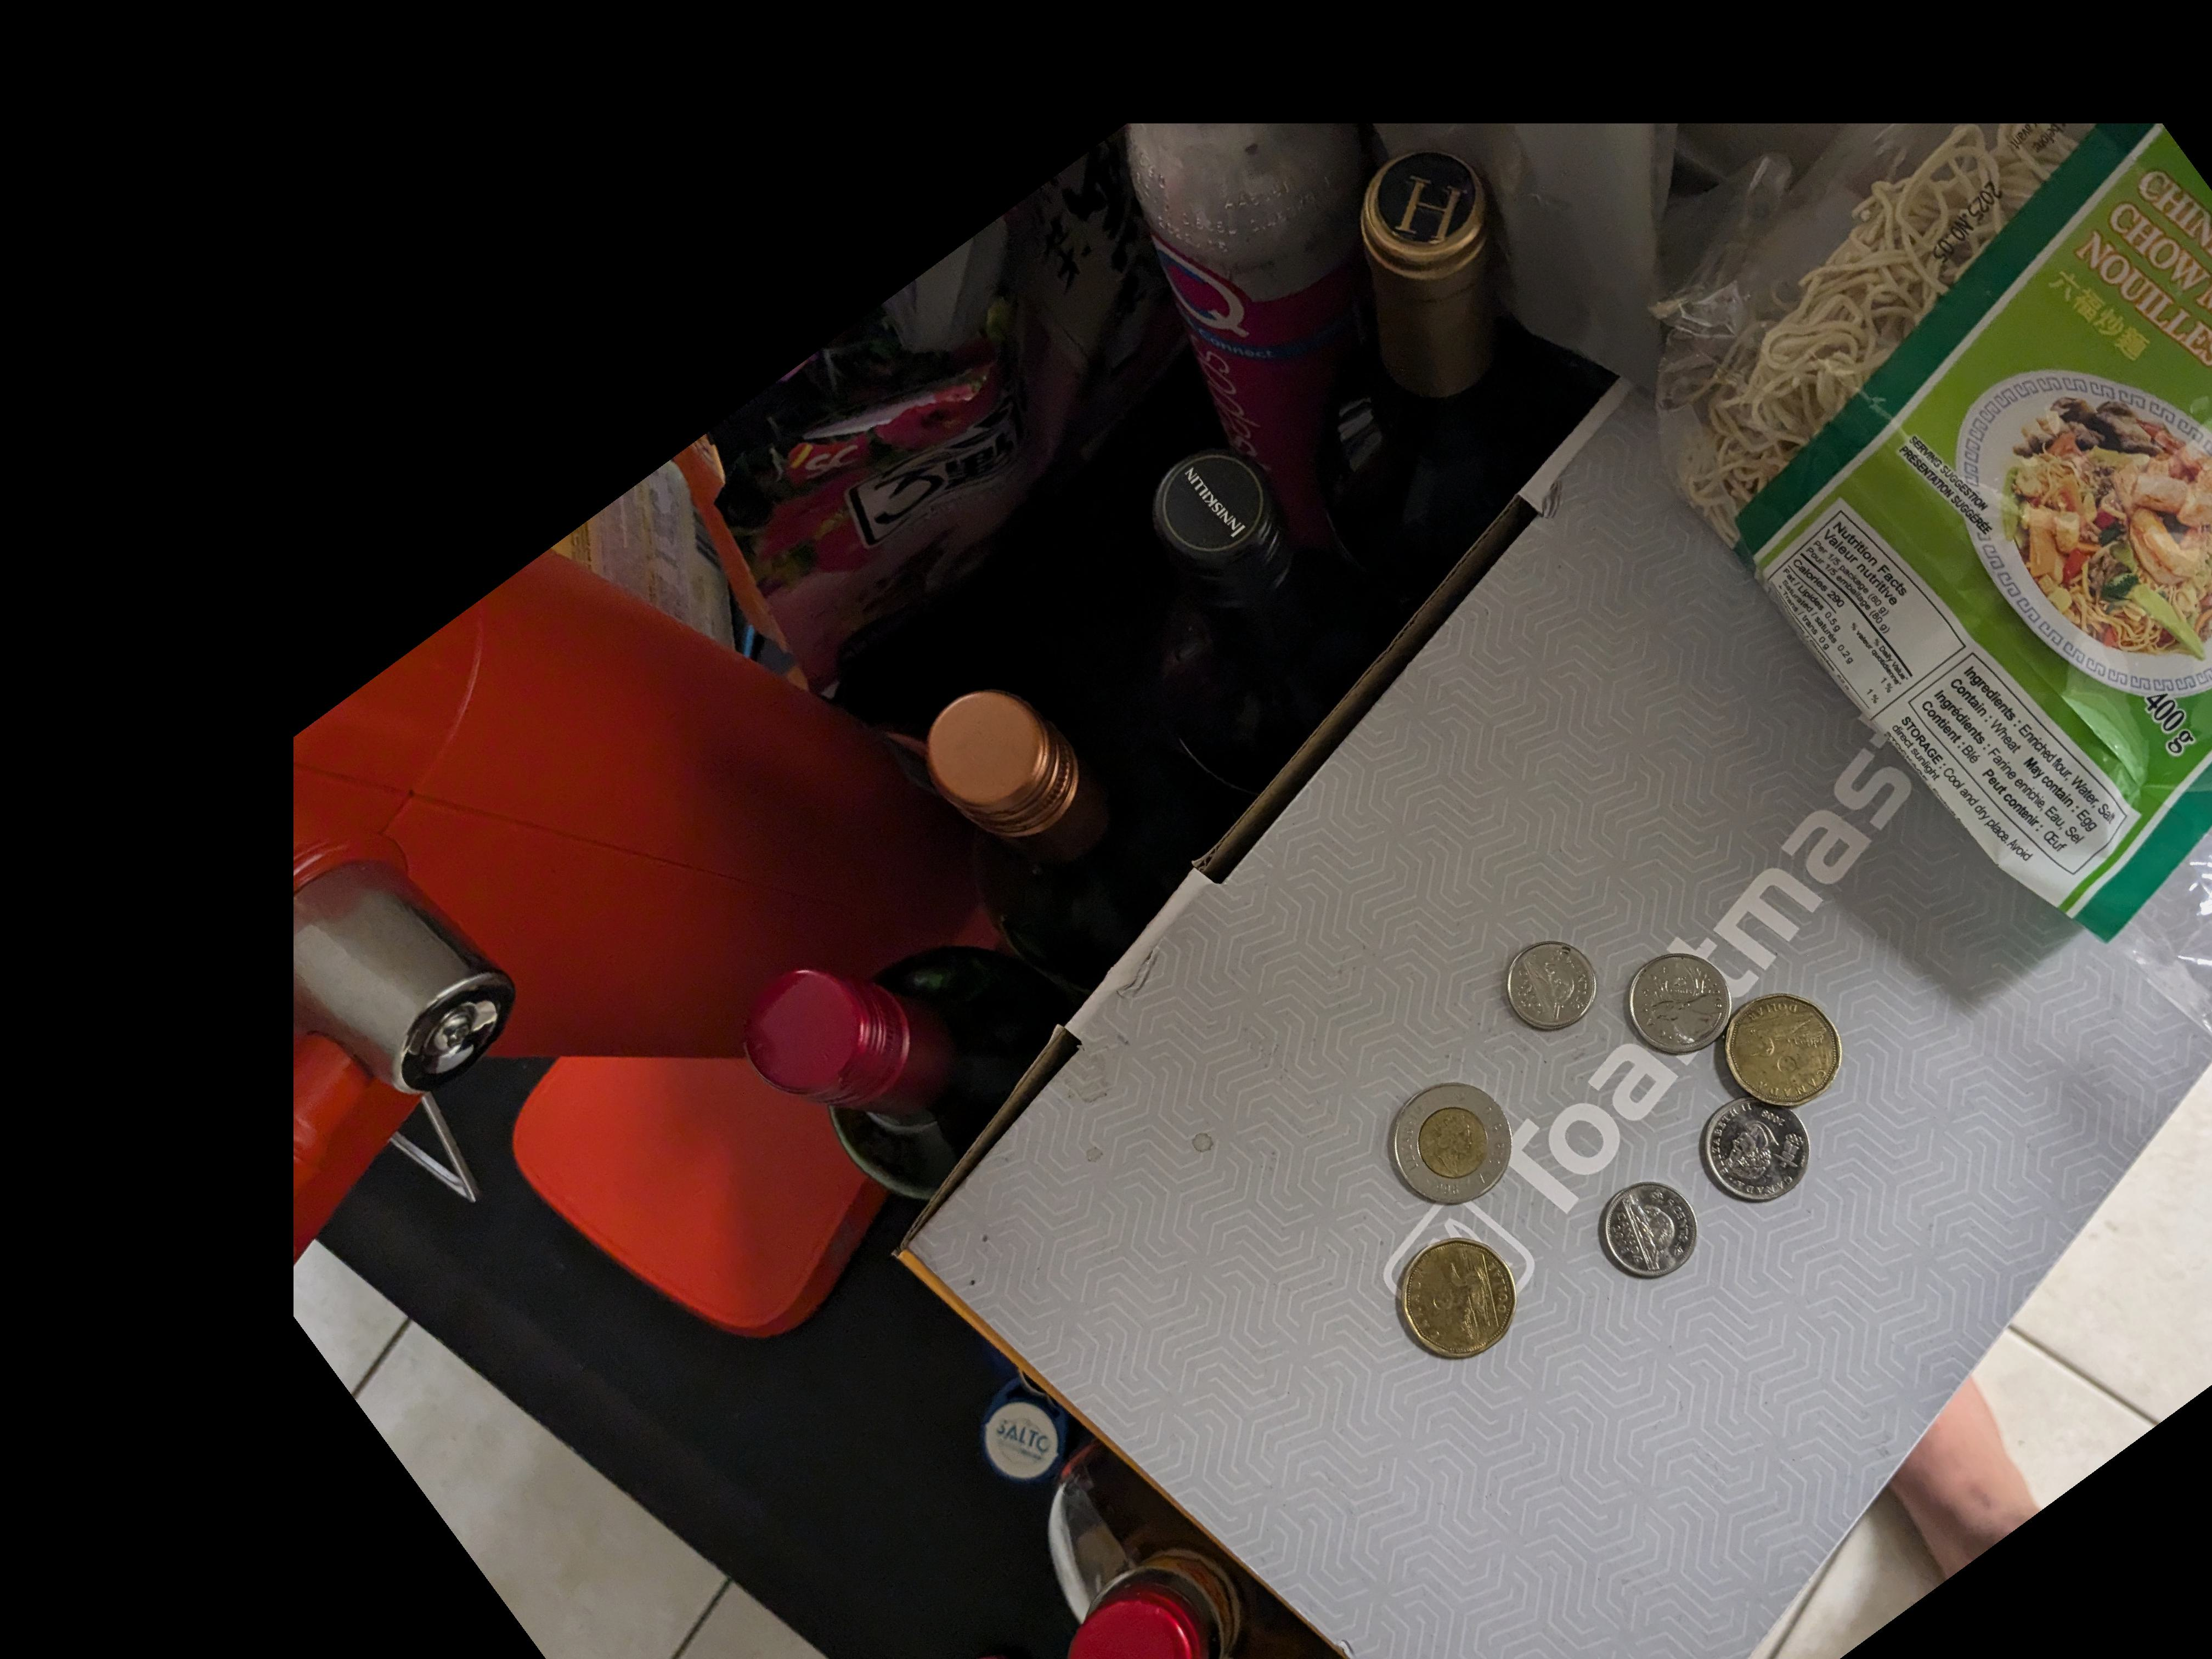loonie: (1402, 1234, 1515, 1364), (1721, 995, 1841, 1108)
nickel: (1594, 1182, 1698, 1284), (1505, 938, 1595, 1026)
quarter: (1698, 1093, 1817, 1206), (1625, 950, 1735, 1060)
toonie: (1395, 1077, 1508, 1208)
